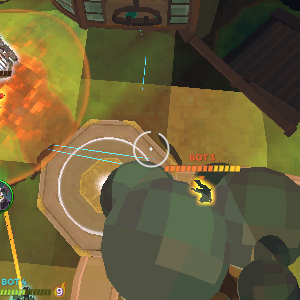model: (186, 181, 221, 205)
